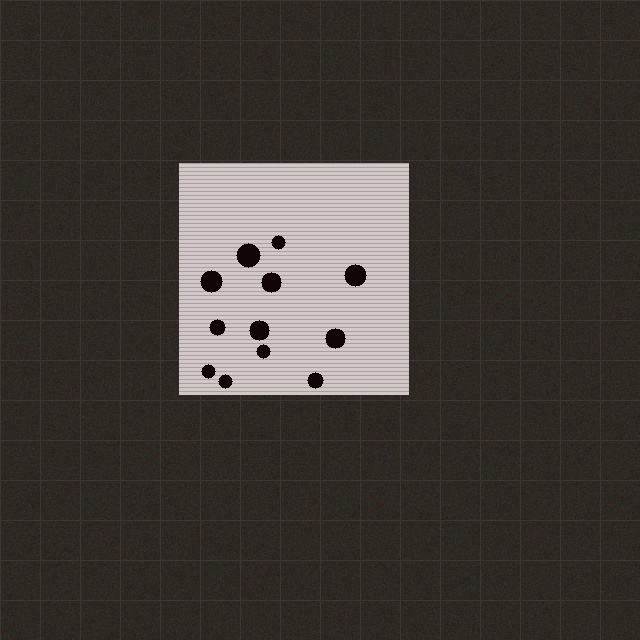over_extrusion: (174, 158, 413, 399)
